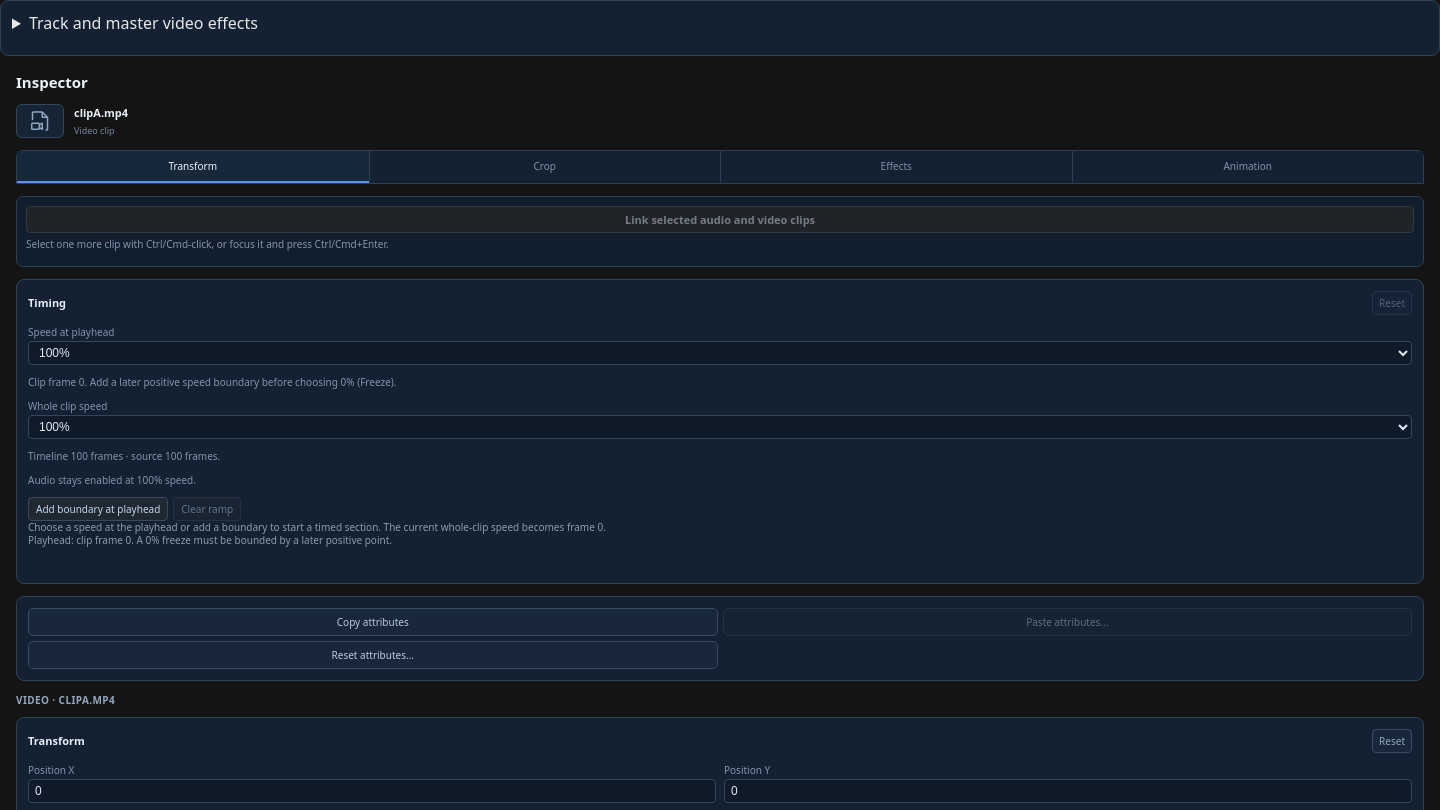
it: Inspector › preserves future lens intent and exposes no editable fallback
The width and height of the screenshot is (1440, 810).
What coordinates should you click on to do the following:
click the tab "Crop"
I would click on:
 (544, 167)
Its box is [368,151,720,183].
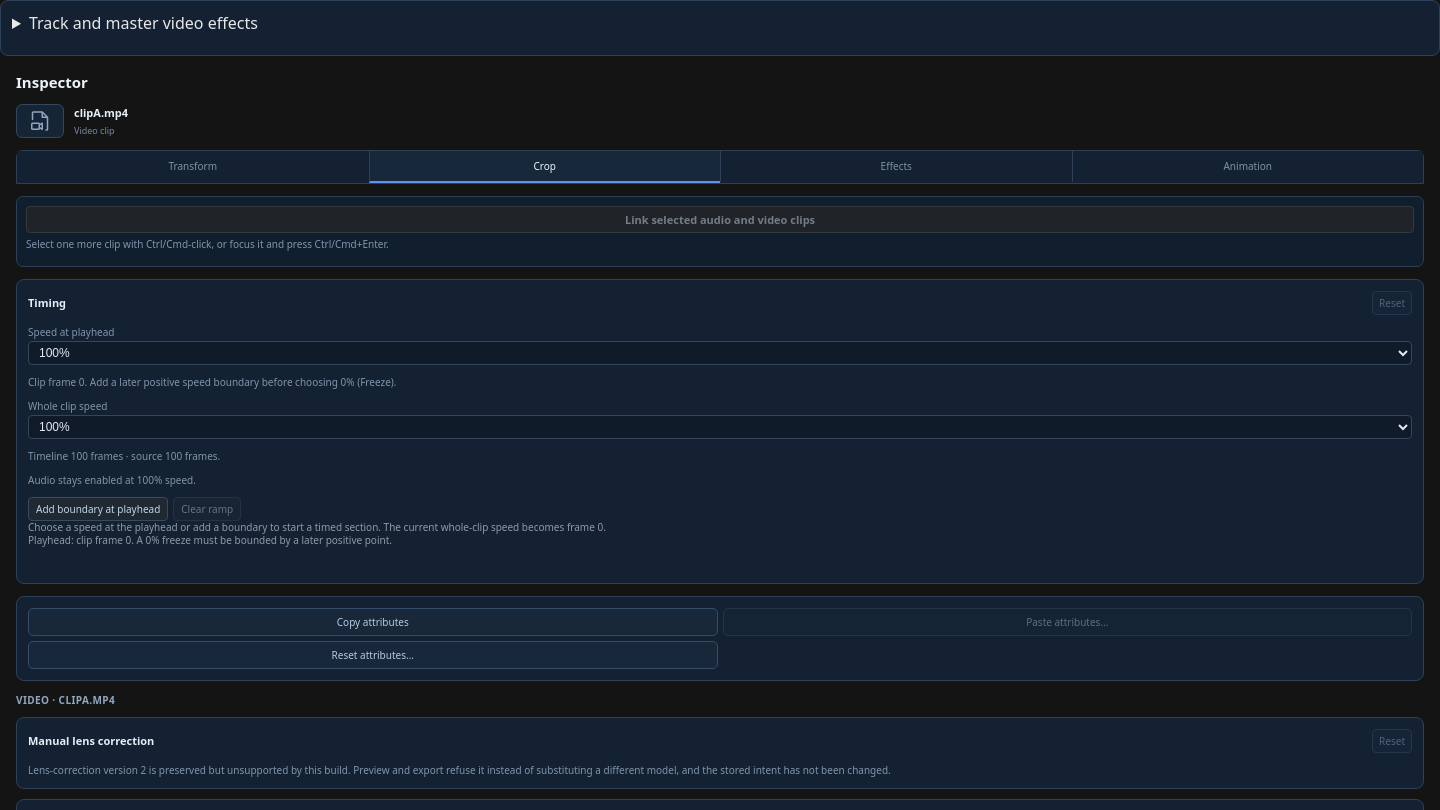
Expected: the text with test id "inspector-lens-unsupported" shows "version 2 is preserved but unsupported", [28,762,891,776]
